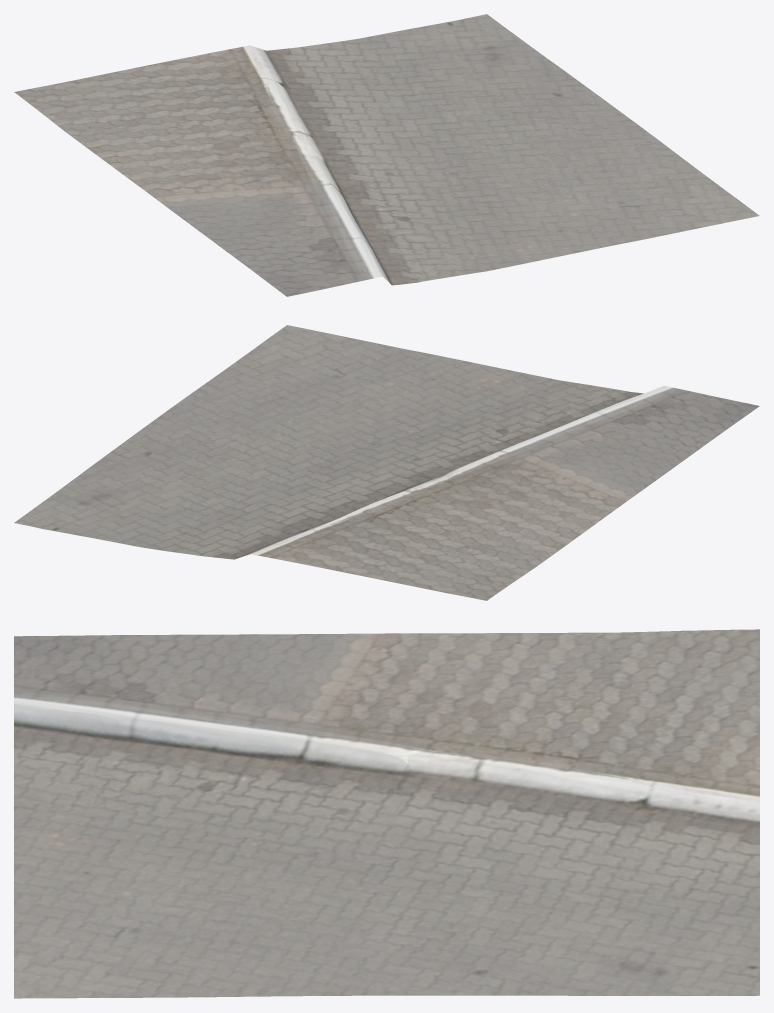
3 renders of one model, top to bottom at view 1: azimuth 30°, elevation 25°; view 2: azimuth 150°, elevation 25°; view 3: azimuth 270°, elevation 25°, orthographic. The views are drawn at different scales.
Bounding box in the file's own units: 4.18 × 0.3327 × 4.18.
Materials: 3 (3 with a texture image).
